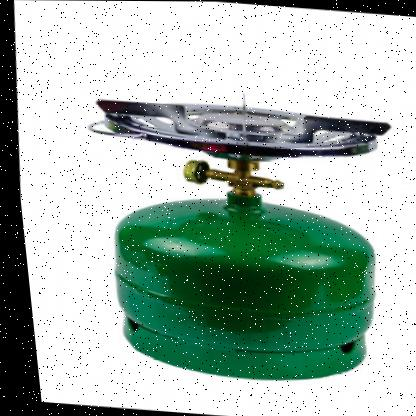gas-tank: (70, 127, 414, 398)
